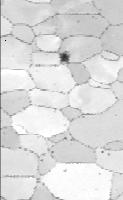good_void: (57, 49, 71, 64), (62, 166, 67, 173), (62, 136, 67, 142), (50, 150, 54, 154), (39, 158, 43, 162), (76, 19, 80, 23), (98, 171, 101, 176), (100, 150, 103, 154), (107, 152, 110, 156), (91, 15, 94, 18)
